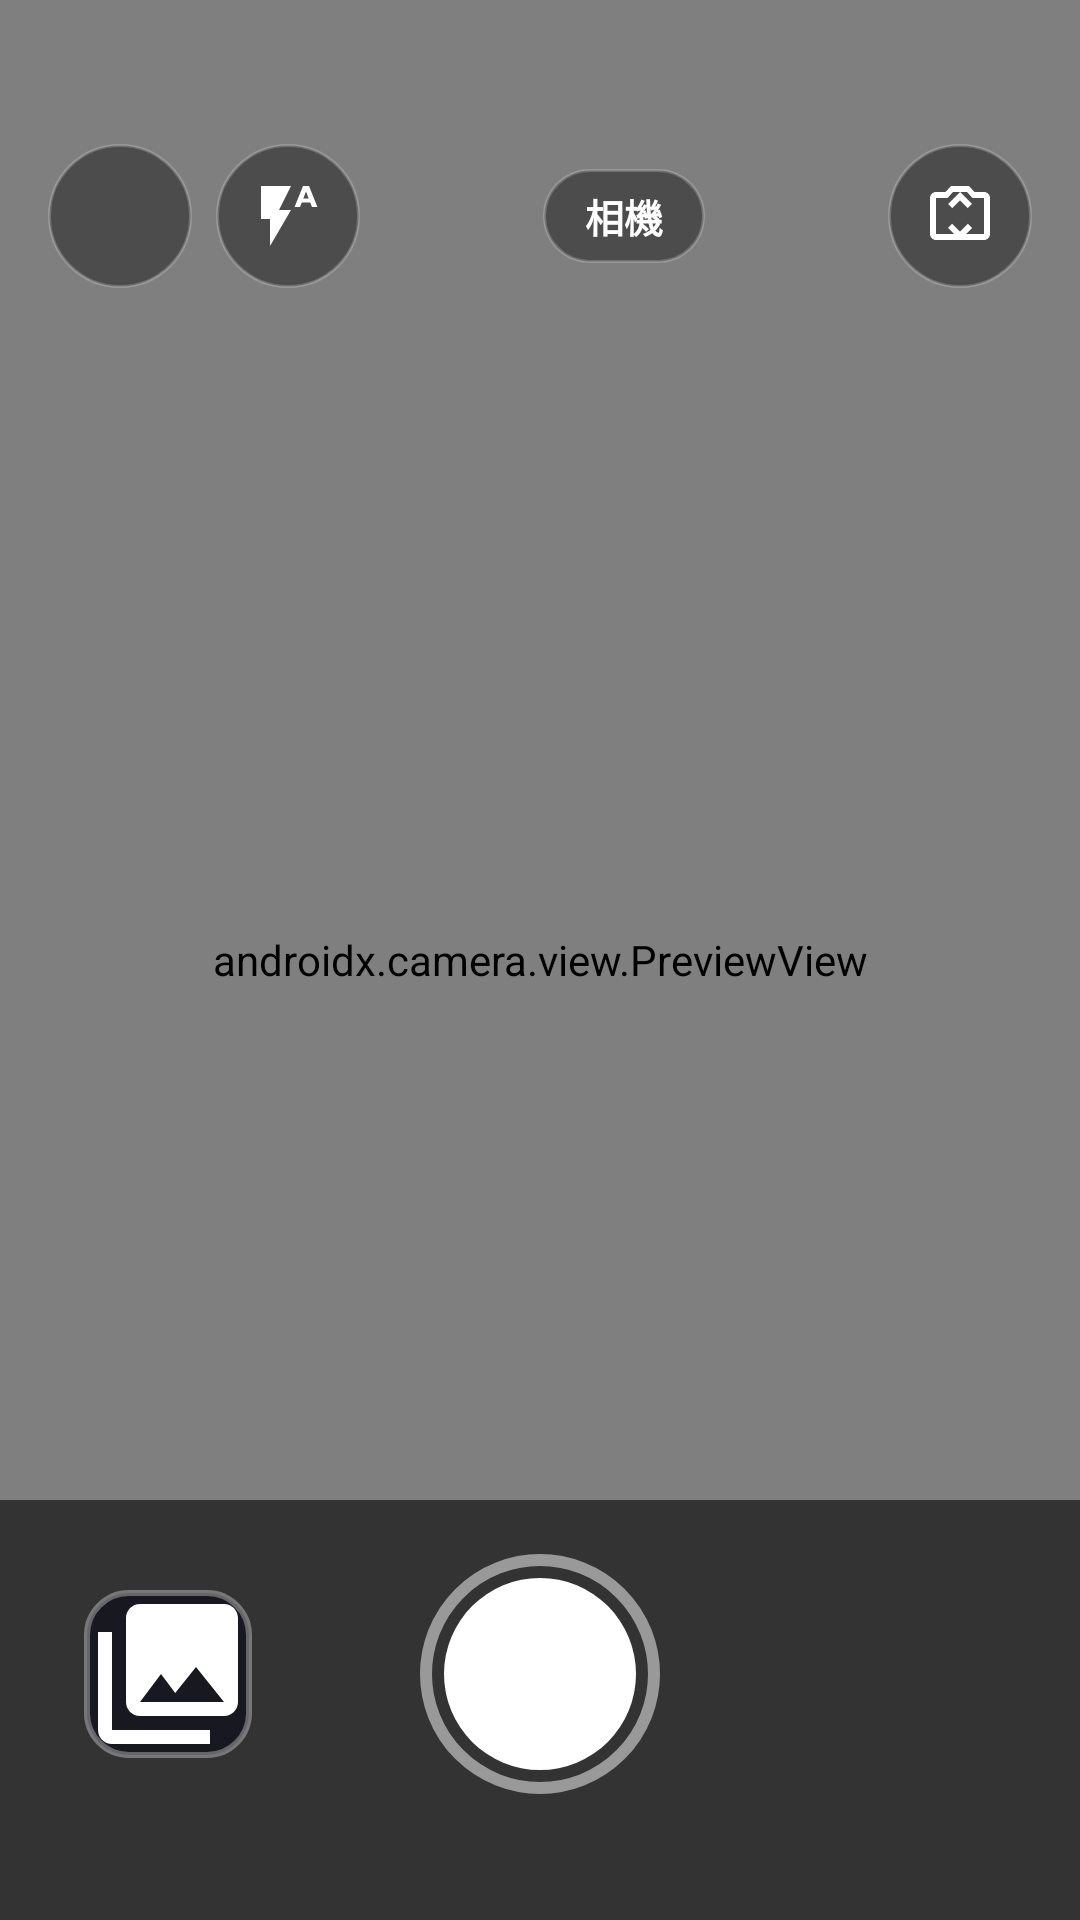

Icons on this 1080×1920 Android screen, each with the point to tap as point (x, y):
切換鏡頭: point (959, 216)
相簿: point (168, 1674)
自動閃光: point (287, 216)
